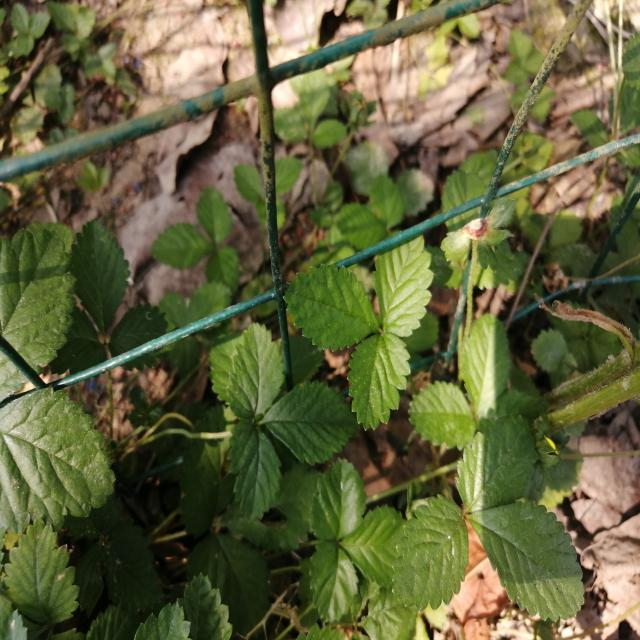Mock_strawberry: (368, 364, 589, 621), (180, 299, 358, 541), (310, 245, 460, 434)
